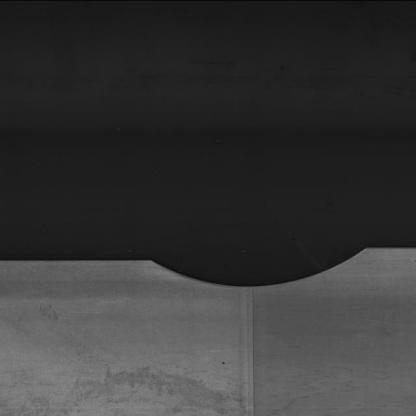crescent_gap: (132, 226, 377, 290)
welding_line: (231, 273, 265, 416)
